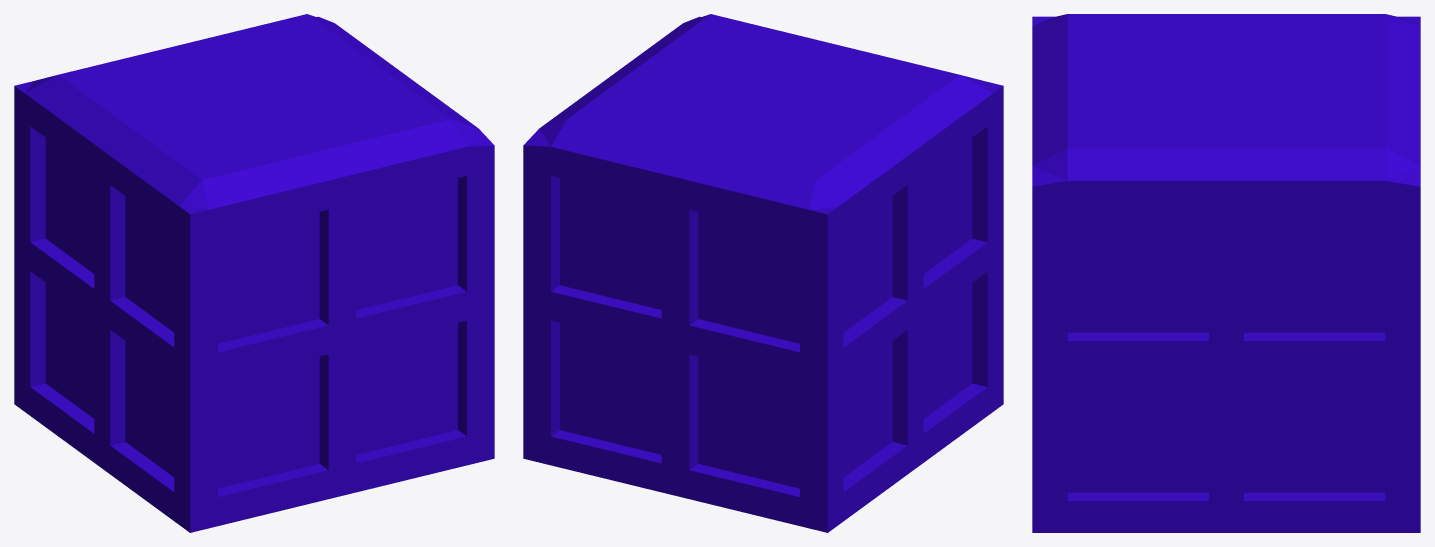
Rendered from blue_wall.dae.
3 views of the same model, side by side, from view 1: azimuth 30°, elevation 25°; view 2: azimuth 150°, elevation 25°; view 3: azimuth 270°, elevation 25° (orthographic). The views are drawn at different scales.
Visible parts, largest first — view 1: Cube; view 2: Cube; view 3: Cube.
Part boxes in pixels (left/top/right/bottom): Cube: left=14, top=14, right=494, bottom=532; Cube: left=523, top=14, right=1003, bottom=532; Cube: left=1032, top=14, right=1420, bottom=532.
Size of the model in its own units: 2 by 2 by 2.1.
